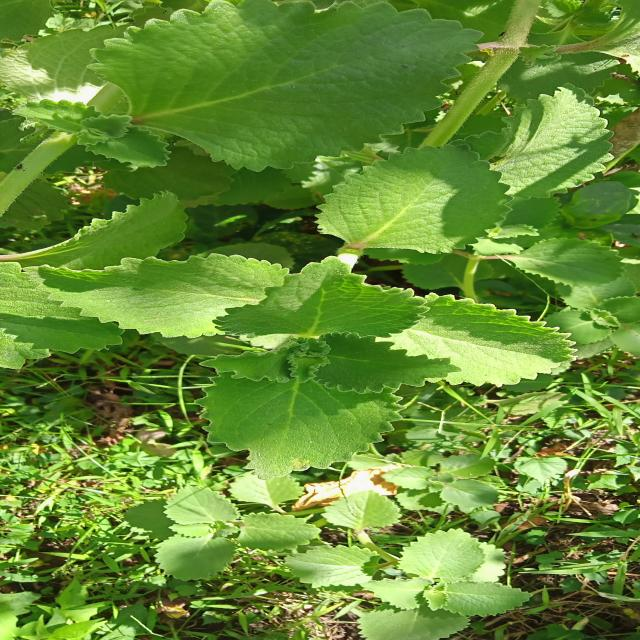Oregano: (22, 240, 561, 455), (52, 0, 506, 172), (347, 526, 527, 628)
